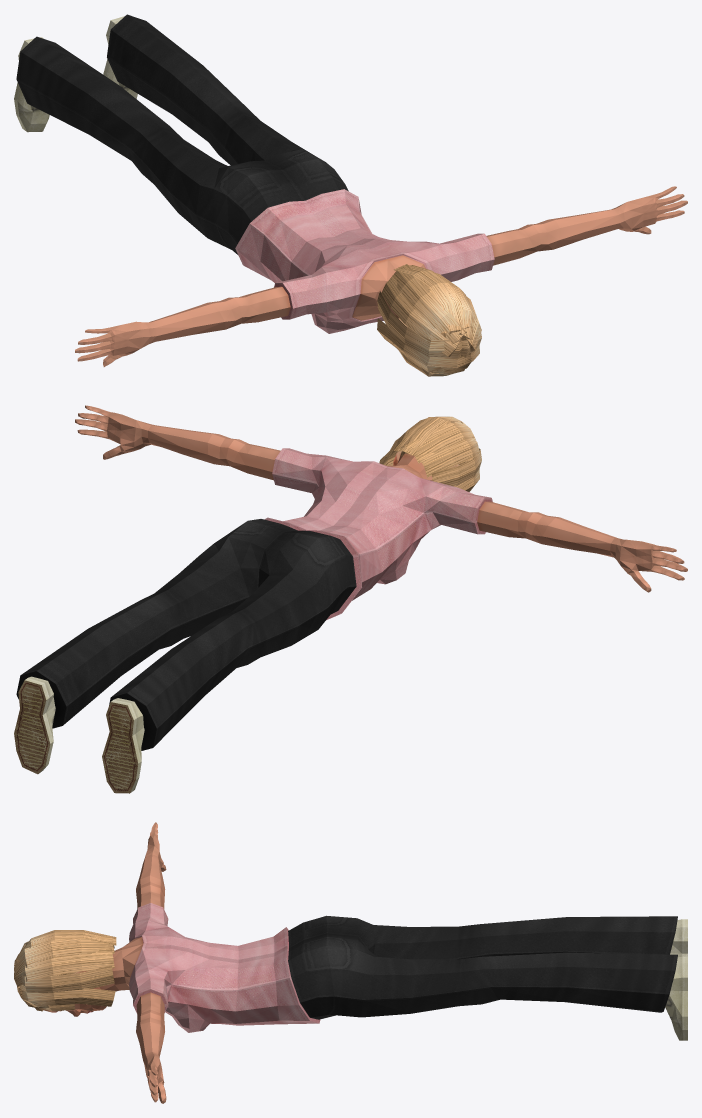
The model's file is tomdrinwoman2_3k_wtf.obj.
3 views of the same model, one above another, from view 1: azimuth 30°, elevation 25°; view 2: azimuth 150°, elevation 25°; view 3: azimuth 270°, elevation 25° (orthographic). The views are drawn at different scales.
Parts seen in each view (by area): view 1: group1; view 2: group1; view 3: group1.
Boxes of the visible parts, left/top/right/bottom form: group1: left=14, top=14, right=687, bottom=376; group1: left=14, top=405, right=687, bottom=793; group1: left=14, top=822, right=687, bottom=1103.
Size of the model in its own units: 606 by 97.31 by 660.
